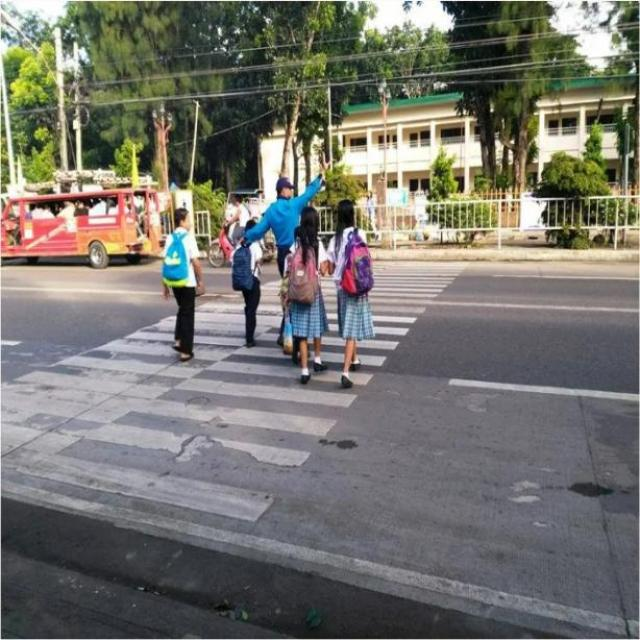pedestrian lane: (1, 260, 471, 522)
